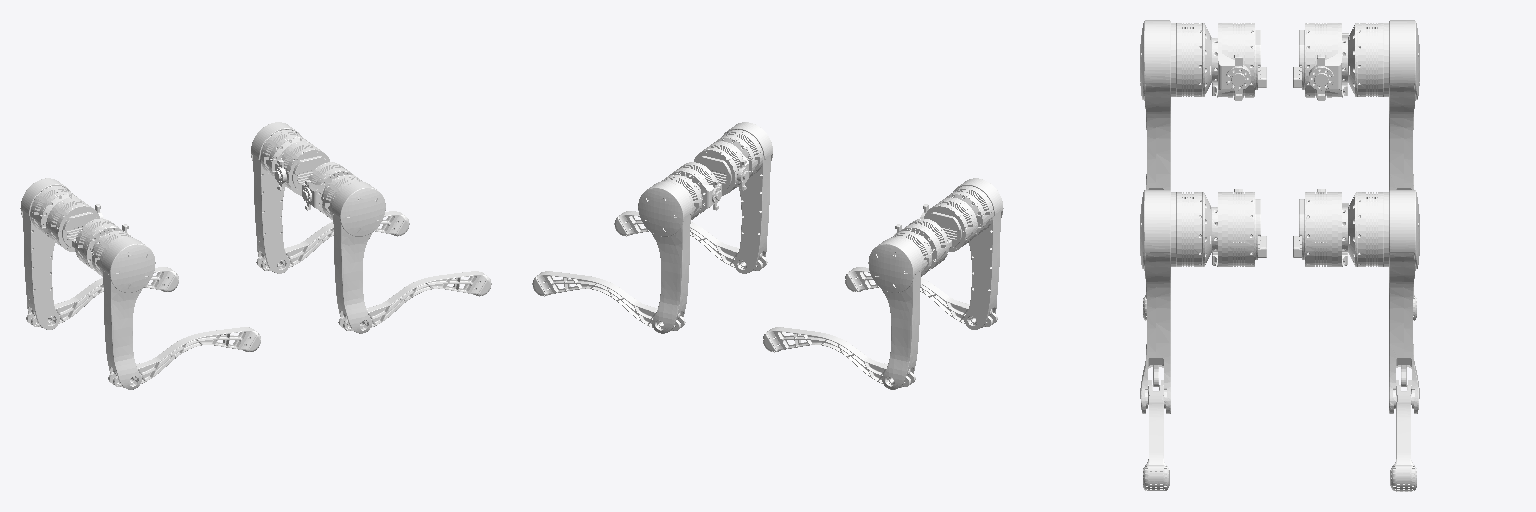
robot.urdf — maxpro:
<?xml version="1.0" encoding="utf-8"?>
<!-- This URDF was automatically created by SolidWorks to URDF Exporter! Originally created by Stephen Brawner (brawner@gmail.com) 
     Commit Version: 1.6.0-4-g7f85cfe  Build Version: 1.6.7995.38578
     For more information, please see http://wiki.ros.org/sw_urdf_exporter -->
<robot name="maxpro">
  <link name="base_link">
    <visual>
      <origin xyz="0 0 0" rpy="0 0 0"/>
      <geometry>
        <mesh filename="package://maxpro_description/meshes/base_link.STL"/>
      </geometry>
      <material name="base_color">
        <color rgba="0.79216 0.81961 0.93333 1"/>
      </material>
    </visual>
    <collision>
      <origin xyz="0 0 0" rpy="0 0 0"/>
      <geometry>
        <mesh filename="package://maxpro_description/meshes/base_link.STL"/>
      </geometry>
    </collision>
  </link>

  <joint name="base_inertia_to_base" type="fixed">
        <parent link="base_link"/>
        <child link="base_inertia"/>
        <origin rpy="0 0 0" xyz="0 0 0"/>
  </joint>
  <link name="base_inertia">
    <inertial>
      <origin xyz="0.000279 0.004196 -0.007079" rpy="0 0 0"/>
      <mass value="35.408"/>
      <inertia
        ixx="0.531253438"
        ixy="0.000686473"
        ixz="-0.000221454"
        iyy="1.461631061"
        iyz="-0.00009271"
        izz="1.739434066"/>
    </inertial>
  </link>

  <joint name="leg0_fr_joint0" type="revolute">
    <origin xyz="0.37525 -0.0775 0" rpy="0 0 0"/>
    <parent link="base_link"/>
    <child link="fr_abad"/>
    <axis xyz="1 0 0"/>
    <limit lower="-0.7854"  upper="0.7854" effort="100"  velocity="9.21"/>
  </joint>

  <link name="fr_abad">
    <inertial>
      <origin xyz="-0.008515 -0.003632 -0.001365" rpy="0 0 0"/>
      <mass value="3.083"/>
      <inertia ixx="0.006713642" ixy="0.00011035" ixz="-0.000034167" iyy="0.011393954" iyz="0.000116757" izz="0.008184764"/>
    </inertial>
    <visual>
      <origin
        xyz="0 0 0"
        rpy="0 0 0"/>
      <geometry>
        <mesh filename="package://maxpro_description/meshes/fr_abad.STL"/>
      </geometry>
      <material name="">
        <color rgba="1 1 1 1"/>
      </material>
    </visual>
    <collision>
      <origin xyz="0 0 0" rpy="0 0 0"/>
      <geometry>
        <mesh filename="package://maxpro_description/meshes/fr_abad.STL"/>
      </geometry>
    </collision>
  </link>
  
  <joint name="leg0_fr_joint1"  type="revolute">
    <origin xyz="0 -0.154 0" rpy="0 0 0"/>
    <parent link="fr_abad"/>
    <child  link="fr_thigh"/>
    <axis  xyz="0 -1 0"/>
    <limit lower="-3.1765" upper="0" effort="120" velocity="14.4"/>
  </joint>

  <link name="fr_thigh">
    <inertial>
      <origin xyz="-0.006078 0.024962 -0.050017" rpy="0 0 0"/>
      <mass value="4.359"/>
      <inertia
        ixx="0.058191044"
        ixy="0.000607622"
        ixz="0.003215132"
        iyy="0.057857634"
        iyz="0.00485072"
        izz="0.012442736"/>
    </inertial>
    <visual>
      <origin
        xyz="0 0 0"
        rpy="0 0 0"/>
      <geometry>
        <mesh filename="package://maxpro_description/meshes/fr_thigh.STL"/>
      </geometry>
      <material name="">
        <color rgba="1 1 1 1"/>
      </material>
    </visual>
    <collision>
      <origin xyz="0 0 0" rpy="0 0 0"/>
      <geometry>
        <mesh filename="package://maxpro_description/meshes/fr_thigh.STL"/>
      </geometry>
    </collision>
  </link>
  
  <joint name="leg0_fr_joint2" type="revolute">
    <origin xyz="0.00003 0 -0.35"  rpy="0 0 0"/>
    <parent link="fr_thigh"/>
    <child link="fr_calf"/>
    <axis xyz="0 -1 0"/>
    <limit  lower="0.52"  upper="2.765"  effort="180" velocity="10.94"/>
  </joint>

  <link name="fr_calf">
    <inertial>
      <origin xyz="0.011366 0.000093 -0.182355" rpy="0 0 0"/>
      <mass value="0.677"/>
      <inertia
        ixx="0.018845022"
        ixy="-0.000000301"
        ixz="-0.000254441"
        iyy="0.019111808"
        iyz="0.000014141"
        izz="0.000388021"/>
    </inertial>
    <visual>
      <origin
        xyz="0 0 0"
        rpy="0 0 0"/>
      <geometry>
        <mesh filename="package://maxpro_description/meshes/fr_calf.STL"/>
      </geometry>
      <material
        name="">
        <color
          rgba="1 1 1 1"/>
      </material>
    </visual>
    <collision>
      <origin
        xyz="0 0 0"
        rpy="0 0 0"/>
      <geometry>
        <mesh filename="package://maxpro_description/meshes/fr_calf.STL"/>
      </geometry>
    </collision>
  </link>
  
  
  <joint name="fr_fix_joint" type="fixed">
      <parent link="fr_calf"/>
      <child link="fr_foot"/>
      <origin rpy="0 0 0" xyz="-0.0 0 -0.415"/>  
      <!-- -0.0 0 -0.428 -->
  </joint>

  <!-- Foot link -->
  <link name="fr_foot">
      <inertial>
            <origin rpy="0 0 0" xyz="0.0 0 0.0"/>
            <mass value="0.001"/>
            <inertia ixx="1e-8" ixy="0" ixz="0" iyy="1e-8" iyz="0" izz="1e-8"/>
      </inertial>
      <visual>
        <origin rpy="0 0 0" xyz="0 0 0"/>
          <geometry>
               <sphere radius="0.0001"/>
          </geometry>
      </visual>
      <collision>
            <origin xyz="0 0 0"/>
            <geometry>
                <sphere radius="0.0001"/>
            </geometry>
      </collision>
  </link>

  <joint
    name="leg1_fl_joint0"
    type="revolute">
    <origin xyz="0.37525 0.0775 0" rpy="0 0 0"/>
    <parent link="base_link"/>
    <child
      link="fl_abad"/>
    <axis
      xyz="1 0 0"/>
    <limit lower="-0.7854" upper="0.7854" effort="100" velocity="9.21"/>
  </joint>

  <link name="fl_abad">
    <inertial>
      <origin xyz="-0.008515 0.003632 -0.001365" rpy="0 0 0"/>
      <mass value="3.083"/>
      <inertia ixx="0.006713642" ixy="-0.00011035" ixz="-0.000034167" iyy="0.011393954" iyz="-0.000116757" izz="0.008184764"/>
    </inertial>
    <visual>
      <origin xyz="0 0 0" rpy="0 0 0"/>
      <geometry>
        <mesh filename="package://maxpro_description/meshes/fl_abad.STL"/>
      </geometry>
      <material
        name="">
        <color rgba="1 1 1 1"/>
      </material>
    </visual>
    <collision>
      <origin
        xyz="0 0 0"
        rpy="0 0 0"/>
      <geometry>
        <mesh filename="package://maxpro_description/meshes/fl_abad.STL"/>
      </geometry>
    </collision>
  </link>

<joint name="leg1_fl_joint1" type="revolute">
    <origin xyz="0 0.154 0" rpy="0 0 0"/>
    <parent link="fl_abad"/>
    <child link="fl_thigh"/>
    <axis xyz="0 -1 0"/>
    <limit lower="-3.1765" upper="0" effort="120" velocity="14.4"/>
  </joint>
  
  <link name="fl_thigh">
    <inertial>
      <origin xyz="-0.006078 -0.024962 -0.050017" rpy="0 0 0"/>
      <mass value="4.359"/>
      <inertia
        ixx="0.058191044"
        ixy="-0.000607622"
        ixz="0.003215132"
        iyy="0.057857634"
        iyz="-0.00485072"
        izz="0.012442736"/>
    </inertial>
    <visual>
      <origin xyz="0 0 0" rpy="0 0 0"/>
      <geometry>
        <mesh filename="package://maxpro_description/meshes/fl_thigh.STL"/>
      </geometry>
      <material
        name="">
        <color rgba="1 1 1 1"/>
      </material>
    </visual>
    <collision>
      <origin xyz="0 0 0" rpy="0 0 0"/>
      <geometry>
        <mesh filename="package://maxpro_description/meshes/fl_thigh.STL"/>
      </geometry>
    </collision>
  </link>

  <joint name="leg1_fl_joint2" type="revolute">
    <origin xyz="0.00003 0 -0.35" rpy="0 0 0"/>
    <parent link="fl_thigh"/>
    <child link="fl_calf"/>
    <axis xyz="0 -1 0"/>
    <limit  lower="0.52"  upper="2.765"  effort="180" velocity="10.94"/>
  </joint>

  <link name="fl_calf">
    <inertial>
      <origin
        xyz="0.011366 -0.000093 -0.182355"
        rpy="0 0 0"/>
      <mass value="0.677"/>
      <inertia
        ixx="0.018845022"
        ixy="0.000000301"
        ixz="-0.000254441"
        iyy="0.019111808"
        iyz="-0.000014141"
        izz="0.000388021"/>
    </inertial>
    <visual>
      <origin
        xyz="0 0 0"
        rpy="0 0 0"/>
      <geometry>
        <mesh filename="package://maxpro_description/meshes/fl_calf.STL"/>
      </geometry>
      <material
        name="">
        <color
          rgba="1 1 1 1"/>
      </material>
    </visual>
    <collision>
      <origin
        xyz="0 0 0"
        rpy="0 0 0"/>
      <geometry>
        <mesh filename="package://maxpro_description/meshes/fl_calf.STL"/>
      </geometry>
    </collision>
  </link>

  <joint name="fl_fix_joint" type="fixed">
      <parent link="fl_calf"/>
      <child link="fl_foot"/>
      <origin rpy="0 0 0" xyz="-0.0 0 -0.415"/>
  </joint>

  <!-- Foot link -->
  <link name="fl_foot">
      <inertial>
            <origin rpy="0 0 0" xyz="0.0 0 0.0"/>
            <mass value="0.001"/>
            <inertia ixx="1e-8" ixy="0" ixz="0" iyy="1e-8" iyz="0" izz="1e-8"/>
      </inertial>
      <visual>
        <origin rpy="0 0 0" xyz="0 0 0"/>
          <geometry>
               <sphere radius="0.0001"/>
          </geometry>
      </visual>
      <collision>
            <origin xyz="0 0 0"/>
            <geometry>
                <sphere radius="0.0001"/>
            </geometry>
      </collision>
  </link>

  <joint name="leg2_hr_joint0" type="revolute">
    <origin xyz="-0.37525 -0.0775 -0" rpy="0 0 0"/>
    <parent link="base_link"/>
    <child link="hr_abad"/>
    <axis xyz="1 0 0"/>
    <limit lower="-0.7854" upper="0.7854" effort="100" velocity="9.21"/>
  </joint>

  <link name="hr_abad">
    <inertial>
      <origin xyz="0.008515 -0.003632 -0.001365" rpy="0 0 0"/>
      <mass value="3.083"/>
      <inertia ixx="0.006713642" ixy="-0.00011035" ixz="0.000034167" iyy="0.011393954" iyz="0.000116757" izz="0.008184764"/>
    </inertial>
    <visual>
      <origin
        xyz="0 0 0"
        rpy="0 0 0"/>
      <geometry>
        <mesh filename="package://maxpro_description/meshes/hr_abad.STL"/>
      </geometry>
      <material
        name="">
        <color
          rgba="1 1 1 1"/>
      </material>
    </visual>
    <collision>
      <origin
        xyz="0 0 0"
        rpy="0 0 0"/>
      <geometry>
        <mesh filename="package://maxpro_description/meshes/hr_abad.STL"/>
      </geometry>
    </collision>
  </link>
  
  <joint name="leg2_hr_joint1" type="revolute">
    <origin xyz="0 -0.154 0" rpy="0 0 0"/>
    <parent link="hr_abad"/>
    <child link="hr_thigh"/>
    <axis xyz="0 -1 0"/>
    <limit lower="-3.1765" upper="0" effort="120" velocity="14.4"/>
  </joint>

  <link
    name="hr_thigh">
    <inertial>
      <origin xyz="-0.006078 0.024962 -0.050017" rpy="0 0 0"/>
      <mass value="4.359"/>
      <inertia
        ixx="0.058191044"
        ixy="0.000607622"
        ixz="0.003215132"
        iyy="0.057857634"
        iyz="0.00485072"
        izz="0.012442736"/>
    </inertial>
    <visual>
      <origin
        xyz="0 0 0"
        rpy="0 0 0"/>
      <geometry>
        <mesh filename="package://maxpro_description/meshes/hr_thigh.STL"/>
      </geometry>
      <material
        name="">
        <color
          rgba="1 1 1 1"/>
      </material>
    </visual>
    <collision>
      <origin
        xyz="0 0 0"
        rpy="0 0 0"/>
      <geometry>
        <mesh filename="package://maxpro_description/meshes/hr_thigh.STL"/>
      </geometry>
    </collision>
  </link>
  
  <joint name="leg2_hr_joint2" type="revolute">
    <origin xyz="0.00003 0 -0.35" rpy="0 0 0"/>
    <parent link="hr_thigh"/>
    <child link="hr_calf"/>
    <axis xyz="0 -1 0"/>
    <limit  lower="0.52"  upper="2.765"  effort="180" velocity="10.94"/>
  </joint>

  <link name="hr_calf">
    <inertial> 
      <origin xyz="0.011366 0.000093 -0.182355" rpy="0 0 0"/>
      <mass value="0.677"/>
      <inertia
        ixx="0.018845022"
        ixy="-0.000000301"
        ixz="-0.000254441"
        iyy="0.019111808"
        iyz="0.000014141"
        izz="0.000388021"/>
    </inertial>
    <visual>
      <origin
        xyz="0 0 0"
        rpy="0 0 0"/>
      <geometry>
        <mesh filename="package://maxpro_description/meshes/hr_calf.STL"/>
      </geometry>
      <material
        name="">
        <color rgba="1 1 1 1"/>
      </material>
    </visual>
    <collision>
      <origin
        xyz="0 0 0"
        rpy="0 0 0"/>
      <geometry>
        <mesh filename="package://maxpro_description/meshes/hr_calf.STL"/>
      </geometry>
    </collision>
  </link>
  

  <joint name="hr_fix_joint" type="fixed">
      <parent link="hr_calf"/>
      <child link="hr_foot"/>
      <origin rpy="0 0 0" xyz="-0.0 0 -0.415"/>
  </joint>

  <!-- Foot link -->
  <link name="hr_foot">
      <inertial>
            <origin rpy="0 0 0" xyz="0.0 0 0.0"/>
            <mass value="0.001"/>
            <inertia ixx="1e-8" ixy="0" ixz="0" iyy="1e-8" iyz="0" izz="1e-8"/>
      </inertial>
      <visual>
        <origin rpy="0 0 0" xyz="0 0 0"/>
          <geometry>
               <sphere radius="0.0001"/>
          </geometry>
      </visual>
      <collision>
            <origin xyz="0 0 0"/>
            <geometry>
                <sphere radius="0.0001"/>
            </geometry>
      </collision>
  </link>

  <joint name="leg3_hl_joint0" type="revolute">
    <origin xyz="-0.37525 0.0775 -0" rpy="0 0 0"/>
    <parent link="base_link"/>
    <child link="hl_abad"/>
    <axis xyz="1 0 0"/>
    <limit lower="-0.7854" upper="0.7854" effort="100" velocity="9.21"/>
  </joint>

  <link name="hl_abad">
    <inertial>
      <origin xyz="0.008515 0.003632 -0.001365" rpy="0 0 0"/>
      <mass value="3.083"/>
      <inertia ixx="0.006713642" ixy="0.00011035" ixz="0.000034167" iyy="0.011393954" iyz="-0.000116757" izz="0.008184764"/>
    </inertial>
    <visual>
      <origin
        xyz="0 0 0"
        rpy="0 0 0"/>
      <geometry>
        <mesh filename="package://maxpro_description/meshes/hl_abad.STL"/>
      </geometry>
      <material
        name="">
        <color
          rgba="1 1 1 1"/>
      </material>
    </visual>
    <collision>
      <origin
        xyz="0 0 0"
        rpy="0 0 0"/>
      <geometry>
        <mesh filename="package://maxpro_description/meshes/hl_abad.STL"/>
      </geometry>
    </collision>
  </link>
  
  <joint name="leg3_hl_joint1" type="revolute">
    <origin xyz="0 0.154 0" rpy="0 0 0"/>
    <parent link="hl_abad"/>
    <child link="hl_thigh"/>
    <axis xyz="0 -1 0"/>
    <limit lower="-3.1765" upper="0" effort="120" velocity="14.4"/>
  </joint>

  <link
    name="hl_thigh">
    <inertial>
      <origin xyz="-0.006078 -0.024962 -0.050017" rpy="0 0 0"/>
      <mass value="4.359"/>
      <inertia
        ixx="0.058191044"
        ixy="-0.000607622"
        ixz="0.003215132"
        iyy="0.057857634"
        iyz="-0.00485072"
        izz="0.012442736"/>
    </inertial>
    <visual>
      <origin
        xyz="0 0 0"
        rpy="0 0 0"/>
      <geometry>
        <mesh filename="package://maxpro_description/meshes/hl_thigh.STL"/>
      </geometry>
      <material
        name="">
        <color
          rgba="1 1 1 1"/>
      </material>
    </visual>
    <collision>
      <origin
        xyz="0 0 0"
        rpy="0 0 0"/>
      <geometry>
        <mesh filename="package://maxpro_description/meshes/hl_thigh.STL"/>
      </geometry>
    </collision>
  </link>
  
  <joint name="leg3_hl_joint2" type="revolute">
    <origin xyz="0.00003 0 -0.35" rpy="0 0 0"/>
    <parent link="hl_thigh"/>
    <child link="hl_calf"/>
    <axis xyz="0 -1 0"/>
    <limit  lower="0.52"  upper="2.765"  effort="180" velocity="10.94"/>
  </joint>

  <link name="hl_calf">
    <inertial>
      <origin
        xyz="0.011366 -0.000093 -0.182355"
        rpy="0 0 0"/>
      <mass value="0.677"/>
      <inertia
        ixx="0.018845022"
        ixy="0.000000301"
        ixz="-0.000254441"
        iyy="0.019111808"
        iyz="-0.000014141"
        izz="0.000388021"/>
    </inertial>
    <visual>
      <origin
        xyz="0 0 0"
        rpy="0 0 0"/>
      <geometry>
        <mesh filename="package://maxpro_description/meshes/hl_calf.STL"/>
      </geometry>
      <material
        name="">
        <color
          rgba="1 1 1 1"/>
      </material>
    </visual>
    <collision>
      <origin
        xyz="0 0 0"
        rpy="0 0 0"/>
      <geometry>
        <mesh filename="package://maxpro_description/meshes/hl_calf.STL"/>
      </geometry>
    </collision>
  </link>
  
  <joint name="hl_fix_joint" type="fixed">
      <parent link="hl_calf"/>
      <child link="hl_foot"/>
      <origin rpy="0 0 0" xyz="-0.0 0 -0.415"/>
  </joint>

  <!-- Foot link -->
  <link name="hl_foot">
      <inertial>
            <origin rpy="0 0 0" xyz="0.0 0 0.0"/>
            <mass value="0.001"/>
            <inertia ixx="1e-8" ixy="0" ixz="0" iyy="1e-8" iyz="0" izz="1e-8"/>
      </inertial>
      <visual>
        <origin rpy="0 0 0" xyz="0 0 0"/>
          <geometry>
               <sphere radius="0.0001"/>
          </geometry>
      </visual>
      <collision>
            <origin xyz="0 0 0"/>
            <geometry>
                <sphere radius="0.0001"/>
            </geometry>
      </collision>
  </link>
  
</robot>

--- Facts derived from the render (not from the file) ---
The picture shows the robot from 3 angles, left to right: view 1: azimuth 30°, elevation 25°; view 2: azimuth 150°, elevation 25°; view 3: azimuth 270°, elevation 25°; orthographic projection.
Robot: maxpro — 18 links, 17 joints (12 revolute, 5 fixed); root link base_link; default pose: all joints at 0 but 4 set to mid-range because 0 is outside their limits (leg0_fr_joint2 = 1.64, leg1_fl_joint2 = 1.64, leg2_hr_joint2 = 1.64, leg3_hl_joint2 = 1.64).
Visible links, largest first — view 1: hr_thigh, fr_thigh, hl_thigh, fl_thigh, fr_calf, hr_calf, fl_abad, hl_abad, fl_calf, hl_calf, fr_abad, hr_abad; view 2: hl_thigh, fl_thigh, hr_thigh, fr_thigh, fl_calf, hl_calf, fr_abad, hr_abad, fr_calf, hr_calf, fl_abad, hl_abad; view 3: fl_thigh, fr_thigh, hl_thigh, hr_thigh, fr_abad, fl_abad, hr_abad, hl_abad, fl_calf, fr_calf.
Boxes of the visible links, x1=… form: hr_thigh: x1=92, y1=231, x2=155, y2=389; fr_thigh: x1=322, y1=175, x2=385, y2=333; hl_thigh: x1=20, y1=178, x2=78, y2=329; fl_thigh: x1=251, y1=122, x2=309, y2=273; fr_calf: x1=338, y1=271, x2=491, y2=331; hr_calf: x1=108, y1=327, x2=260, y2=387; fl_abad: x1=275, y1=141, x2=329, y2=195; hl_abad: x1=46, y1=197, x2=103, y2=251; fl_calf: x1=256, y1=211, x2=409, y2=271; hl_calf: x1=26, y1=267, x2=178, y2=327; fr_abad: x1=302, y1=162, x2=354, y2=214; hr_abad: x1=75, y1=218, x2=130, y2=270; hl_thigh: x1=868, y1=231, x2=931, y2=389; fl_thigh: x1=638, y1=175, x2=701, y2=333; hr_thigh: x1=945, y1=178, x2=1003, y2=329; fr_thigh: x1=714, y1=122, x2=772, y2=273; fl_calf: x1=532, y1=271, x2=685, y2=331; hl_calf: x1=763, y1=327, x2=915, y2=387; fr_abad: x1=694, y1=141, x2=748, y2=195; hr_abad: x1=920, y1=197, x2=977, y2=251; fr_calf: x1=614, y1=211, x2=767, y2=271; hr_calf: x1=845, y1=267, x2=997, y2=327; fl_abad: x1=669, y1=162, x2=721, y2=214; hl_abad: x1=894, y1=218, x2=948, y2=270; fl_thigh: x1=1342, y1=190, x2=1419, y2=413; fr_thigh: x1=1140, y1=190, x2=1217, y2=413; hl_thigh: x1=1342, y1=20, x2=1419, y2=189; hr_thigh: x1=1140, y1=20, x2=1217, y2=189; fr_abad: x1=1212, y1=189, x2=1266, y2=266; fl_abad: x1=1293, y1=189, x2=1347, y2=266; hr_abad: x1=1212, y1=23, x2=1266, y2=100; hl_abad: x1=1293, y1=23, x2=1347, y2=100; fl_calf: x1=1390, y1=380, x2=1416, y2=491; fr_calf: x1=1143, y1=380, x2=1169, y2=490.
Bounding box of the posed robot: 1.25 × 0.5251 × 0.451 m (x, y, z).
Meshes: 13 distinct files referenced, 12 mesh visuals loaded (12 binary STL); not drawn: 1 (reference not matched to a file when rendering).
